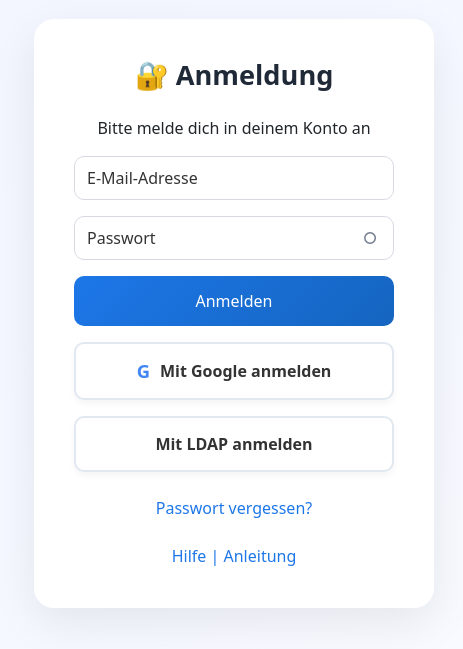
Test: Login Page post-auth role flow › uses the same multi-role selector after LDAP authentication
Click the button "Mit LDAP anmelden".
click(234, 444)  # box left=74, top=416, right=394, bottom=472
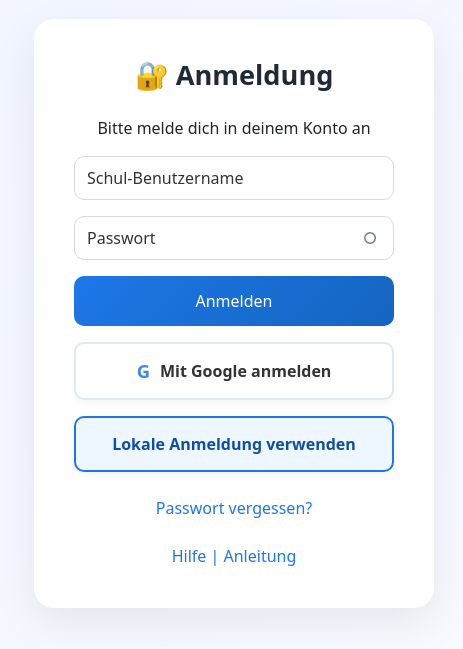
Type "ldap-user" into the field with placeholder "Schul-Benutzername".
click(234, 178); type("ldap-user")  # box left=74, top=156, right=394, bottom=200
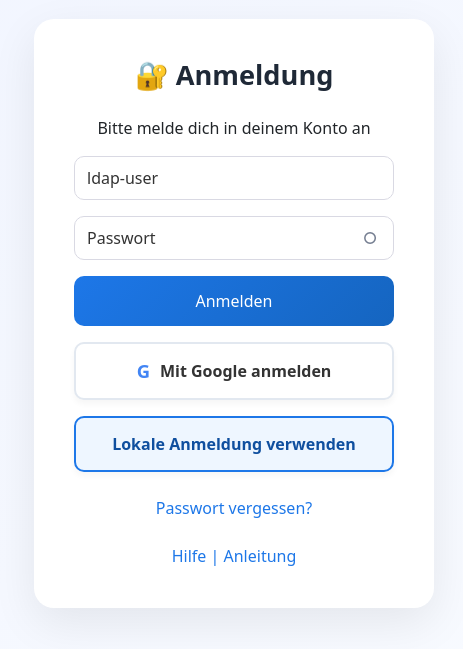
Type "testpass" into the password field with placeholder "Passwort".
click(234, 238); type("testpass")  # box left=74, top=216, right=394, bottom=260
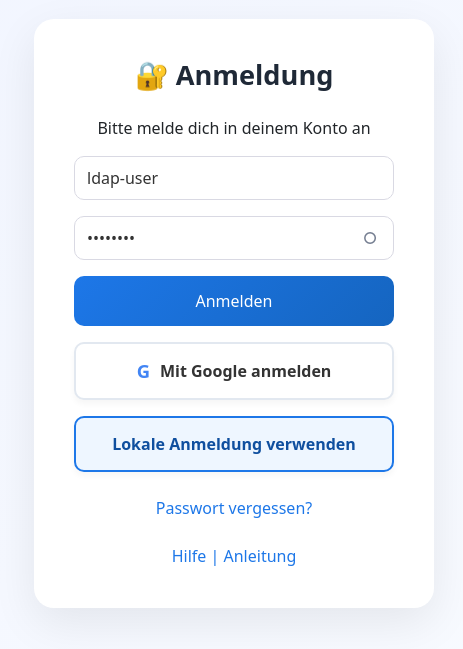
Click the button "Anmelden".
click(234, 301)  # box left=74, top=276, right=394, bottom=326
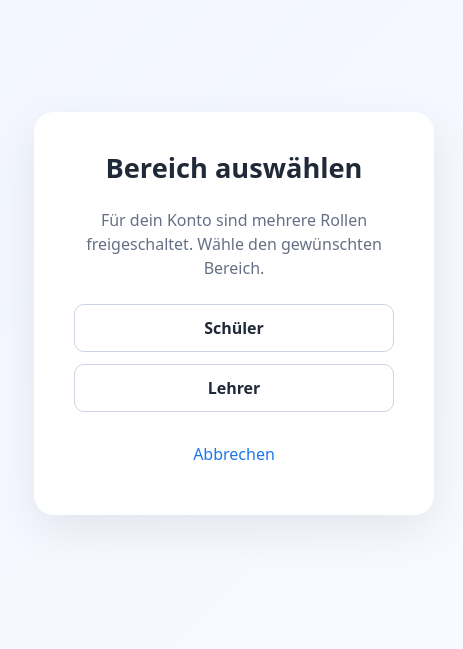
expect the button "Schüler" is shown: met, box left=74, top=304, right=394, bottom=352
expect the button "Lehrer" is shown: met, box left=74, top=364, right=394, bottom=412
